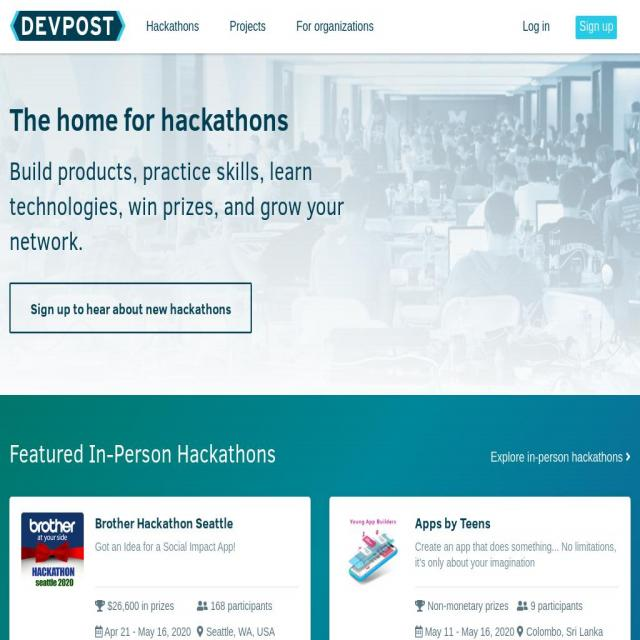login-option: (518, 12, 554, 43)
navigation-blocks: (15, 455, 640, 640)
navigation-links: (140, 8, 381, 42)
sign-up-option: (11, 275, 264, 345), (571, 12, 624, 45)
